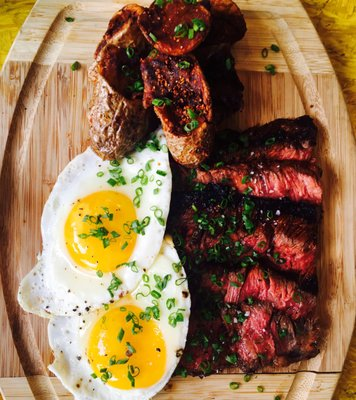curry: (0, 1, 356, 389)
